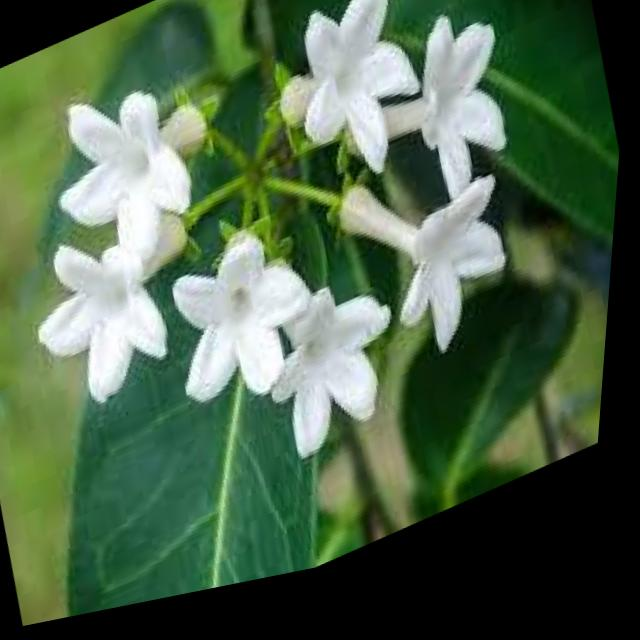Flower: (283, 113, 548, 415), (0, 167, 217, 443), (124, 201, 344, 457), (32, 57, 229, 277), (240, 261, 426, 489)
